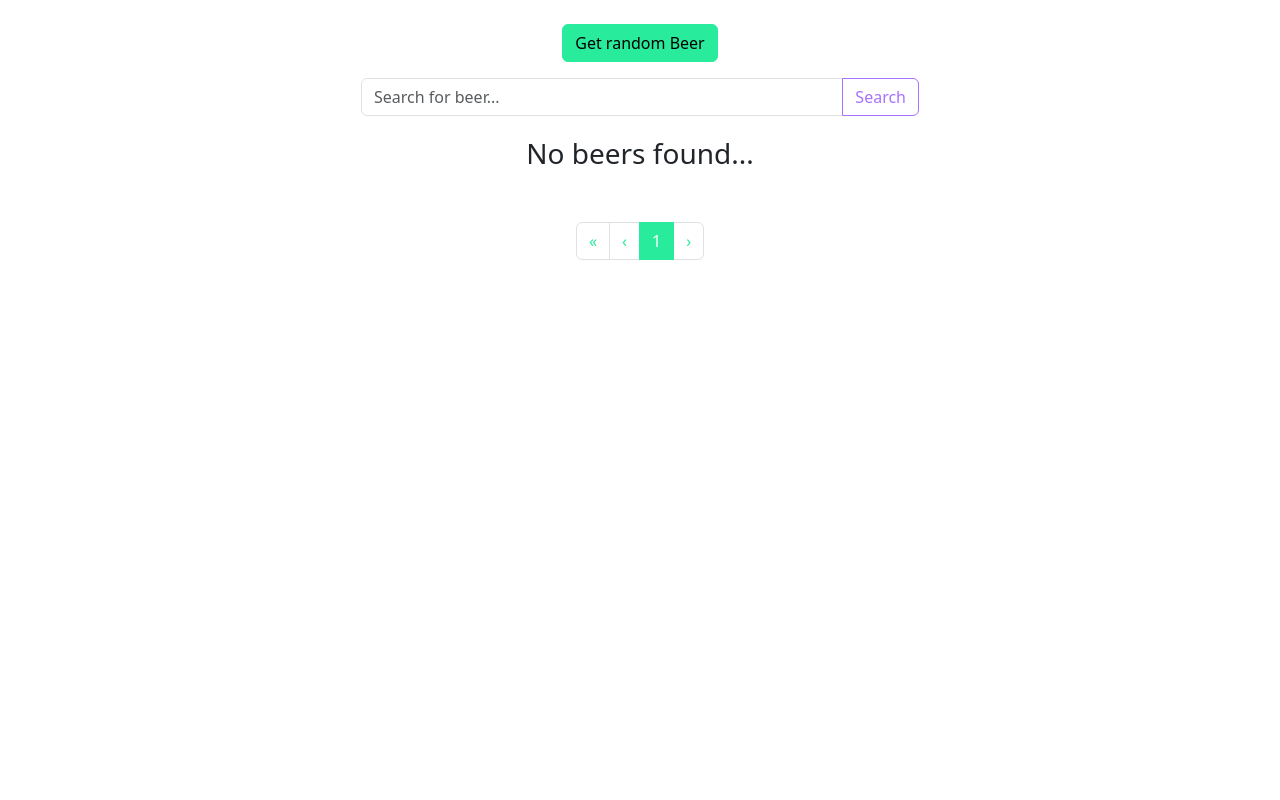
Index › should go to first page
Click the button named "next page".
click(689, 241)  # box [673, 222, 704, 260]
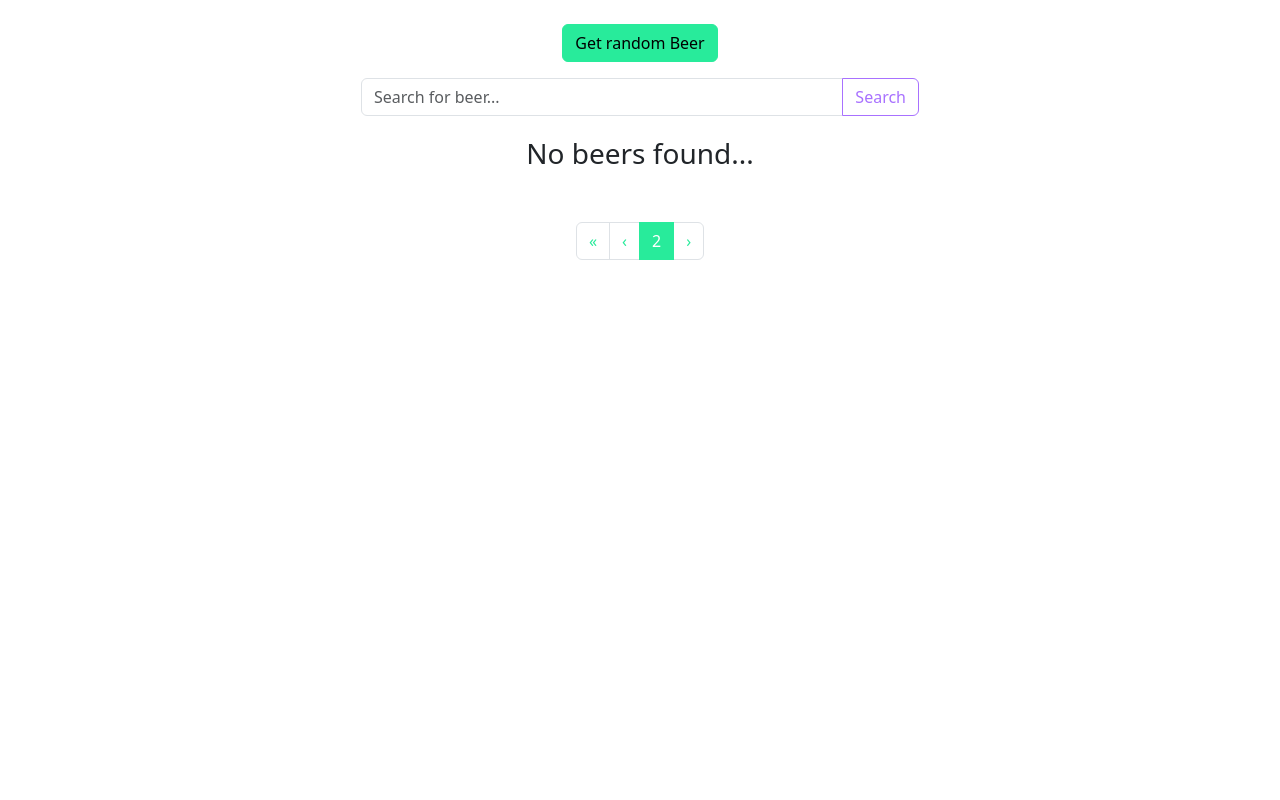
Click the button named "next page".
click(689, 241)  # box [673, 222, 704, 260]
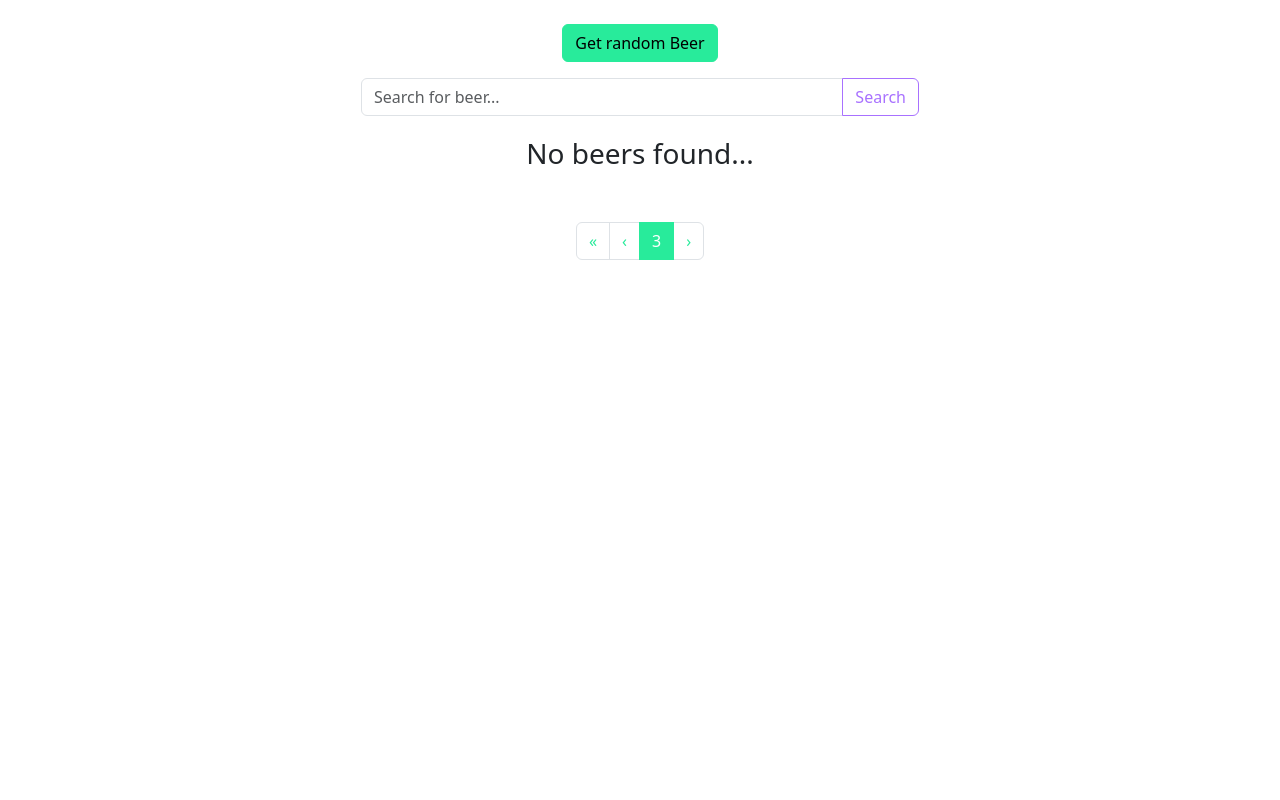
Click the button named "first page".
click(593, 241)  # box [576, 222, 610, 260]
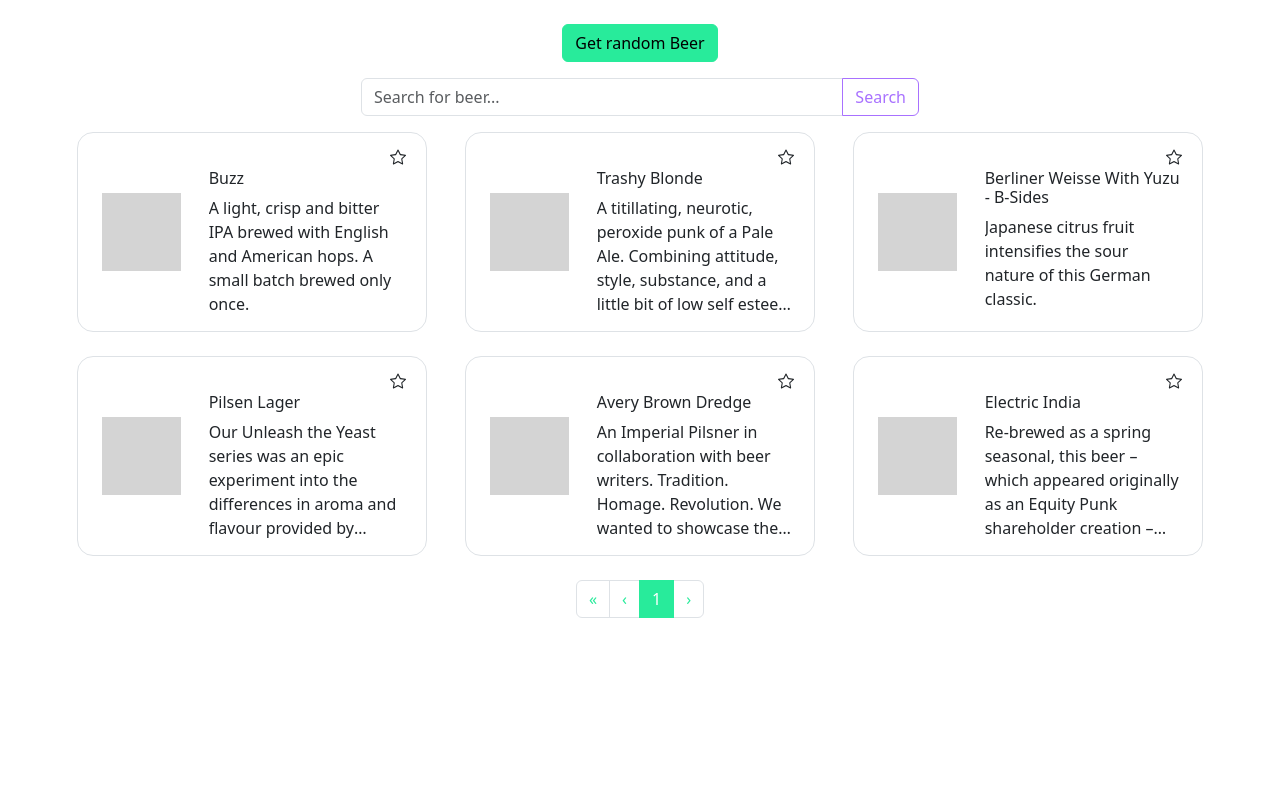
Check: the element named "current page" reads "1", box [652, 588, 661, 610]
